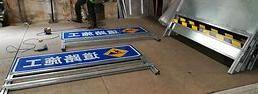sign: (11, 44, 142, 76), (61, 26, 150, 41)
